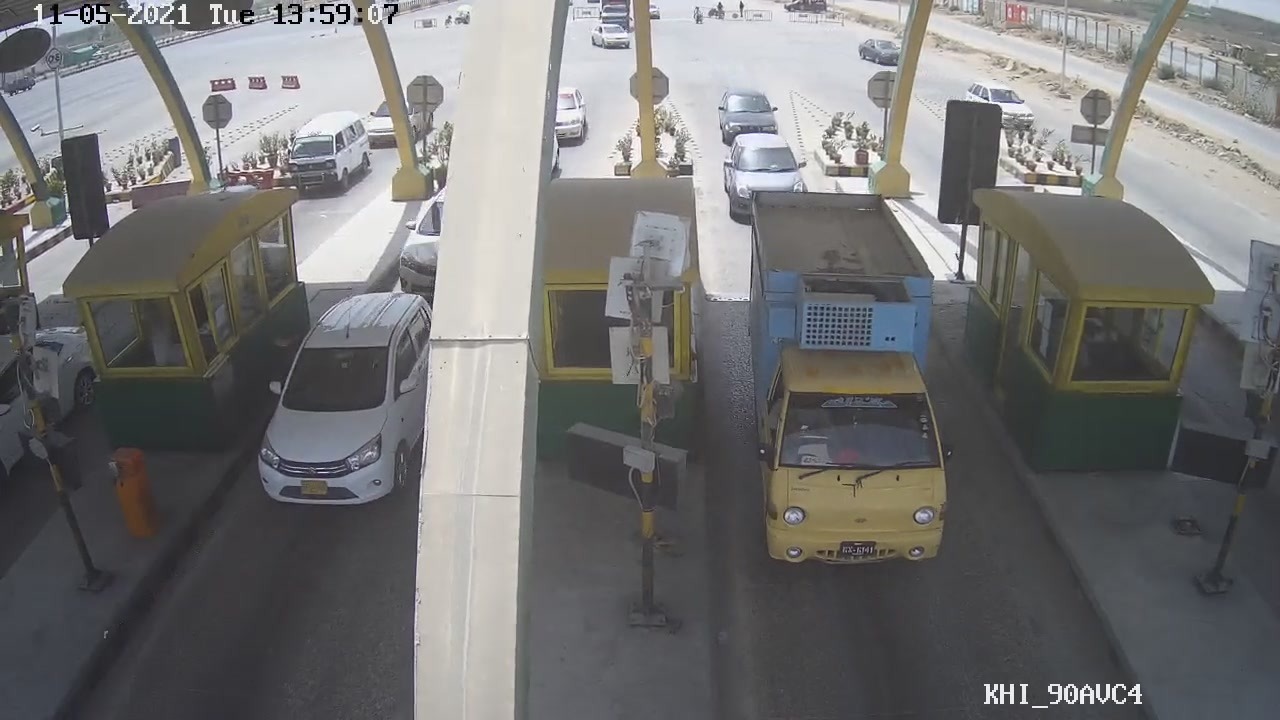F2: (745, 179, 950, 576)
